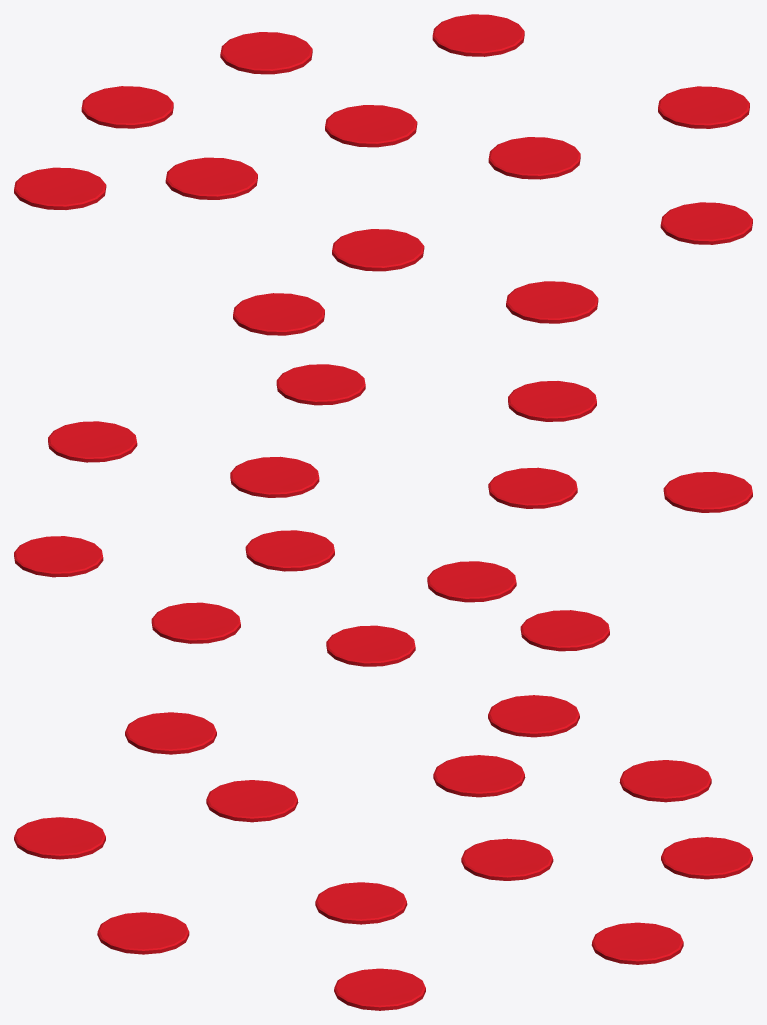
File: pepperoni.glb
3 renders of one model, top to bottom at view 1: azimuth 30°, elevation 25°; view 2: azimuth 150°, elevation 25°; view 3: azimuth 270°, elevation 25°, orthographic. The views are drawn at different scales.
Visible parts, largest first — view 1: pepperoni14; view 2: pepperoni14; view 3: pepperoni14.
Part boxes in pixels (x1=…): pepperoni14: x1=14, y1=14, x2=752, y2=335; pepperoni14: x1=14, y1=364, x2=752, y2=666; pepperoni14: x1=14, y1=695, x2=752, y2=1010.
Size of the model in its own units: 0.3017 by 0.00198 by 0.3017.
